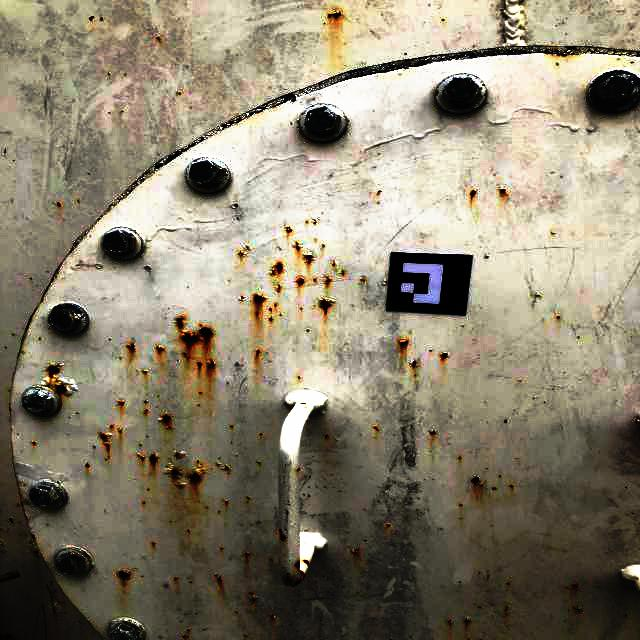Corrosion: (41, 363, 78, 397), (176, 316, 213, 344), (186, 460, 206, 484), (55, 309, 79, 326), (164, 463, 182, 480), (318, 297, 335, 313), (157, 412, 172, 429), (100, 432, 112, 453), (0, 571, 21, 583), (253, 292, 271, 305), (268, 262, 286, 275), (68, 553, 84, 567), (73, 547, 91, 559), (237, 244, 250, 258), (0, 629, 15, 640), (302, 251, 315, 263), (116, 570, 131, 580), (149, 453, 159, 465), (327, 10, 342, 18), (504, 606, 513, 618), (171, 451, 186, 458), (398, 338, 409, 347), (548, 54, 581, 57), (279, 530, 287, 542), (284, 224, 293, 234), (291, 241, 302, 249), (294, 276, 305, 284), (175, 481, 185, 489), (127, 343, 136, 351), (298, 402, 308, 409), (221, 464, 231, 471), (351, 548, 361, 555), (440, 352, 449, 359), (471, 477, 480, 484), (284, 575, 293, 582), (325, 276, 331, 286), (470, 190, 476, 200), (117, 399, 125, 406), (464, 618, 472, 625), (32, 549, 39, 557), (572, 585, 580, 592), (576, 608, 584, 615), (294, 579, 303, 585), (156, 345, 163, 352), (208, 360, 215, 367), (303, 559, 310, 566), (238, 295, 246, 301), (137, 454, 145, 460), (126, 238, 132, 246), (295, 561, 300, 570), (300, 570, 305, 579), (536, 292, 543, 298), (411, 361, 417, 367), (500, 188, 507, 193), (88, 16, 95, 21), (52, 608, 56, 616), (331, 261, 337, 266), (85, 462, 90, 468), (8, 518, 14, 523), (338, 271, 345, 275), (313, 218, 317, 225), (218, 169, 222, 176), (277, 285, 281, 292), (197, 362, 202, 367), (382, 280, 387, 285), (251, 598, 256, 603), (117, 429, 122, 434), (176, 89, 181, 94), (56, 202, 61, 207), (255, 349, 261, 353), (143, 370, 149, 374), (144, 409, 148, 415), (373, 427, 379, 431), (557, 314, 561, 320), (32, 534, 35, 541), (485, 255, 490, 259), (217, 577, 222, 581), (245, 552, 250, 556), (271, 614, 275, 619), (182, 635, 188, 638), (404, 65, 410, 68), (183, 352, 187, 356), (269, 317, 273, 321), (256, 311, 260, 315), (144, 400, 148, 404), (216, 462, 220, 466), (325, 435, 329, 439), (317, 410, 321, 414), (447, 620, 451, 624), (313, 278, 317, 282), (509, 484, 513, 487), (458, 456, 462, 459), (21, 501, 23, 507), (386, 524, 391, 526), (31, 442, 36, 444), (269, 307, 272, 310), (297, 468, 300, 471), (250, 592, 253, 595), (188, 629, 191, 631)
